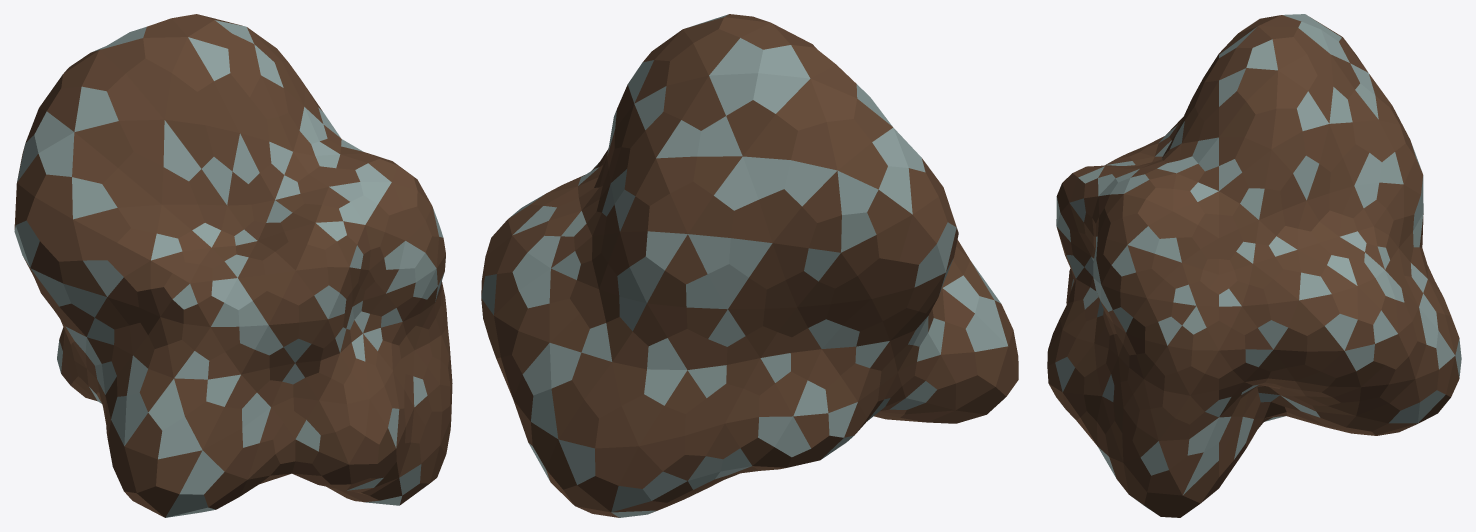
Rendered from asteroid.glb.
The picture shows the model from 3 angles, left to right: view 1: azimuth 30°, elevation 25°; view 2: azimuth 150°, elevation 25°; view 3: azimuth 270°, elevation 25°; orthographic projection. The views are drawn at different scales.
Parts seen in each view (by area): view 1: Asteroid; view 2: Asteroid; view 3: Asteroid.
Boxes of the visible parts, x1,y1,x2,y2 form: Asteroid: (14, 14, 452, 517); Asteroid: (481, 14, 1018, 517); Asteroid: (1047, 14, 1461, 517).
Size of the model in its own units: 7.48 by 8.77 by 7.8.
